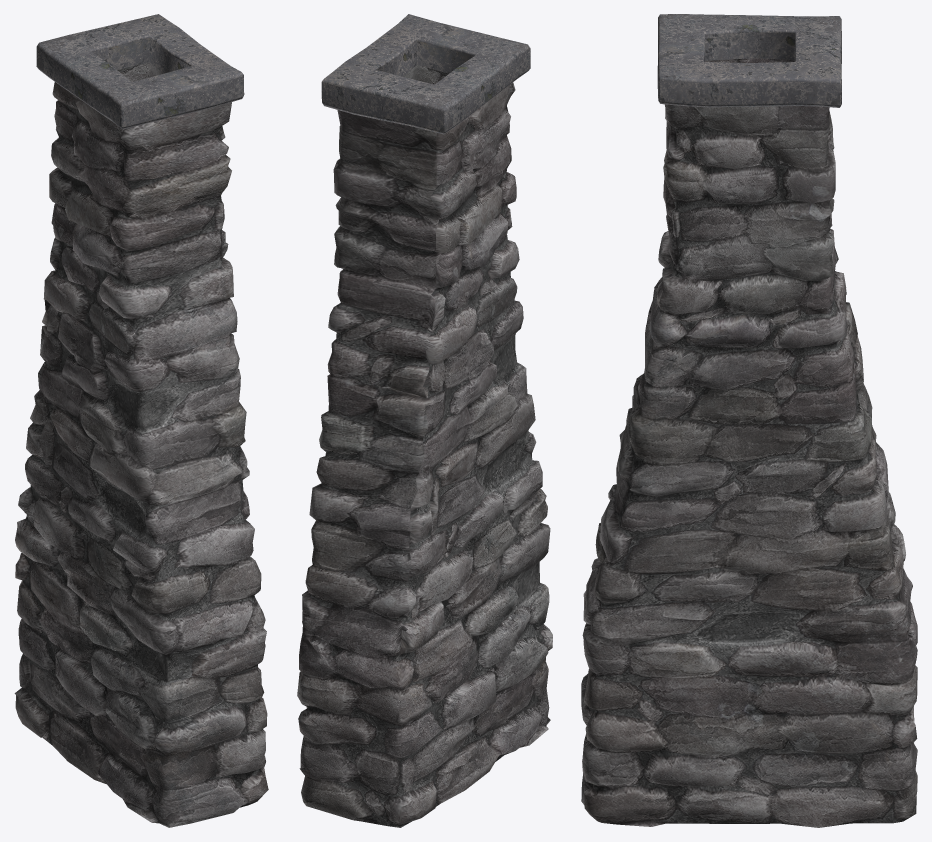
Rendered from SM_ChimneyB.FBX.
The picture shows the model from 3 angles, left to right: view 1: azimuth 30°, elevation 25°; view 2: azimuth 150°, elevation 25°; view 3: azimuth 270°, elevation 25°; orthographic projection. The views are drawn at different scales.
Visible parts, largest first — view 1: SM_ChimneyB_LOD0; view 2: SM_ChimneyB_LOD0; view 3: SM_ChimneyB_LOD0.
Boxes of the visible parts, x1,y1,x2,y2 form: SM_ChimneyB_LOD0: (14,14,268,827); SM_ChimneyB_LOD0: (297,14,552,827); SM_ChimneyB_LOD0: (581,14,917,827).
Size of what is drawn, in the model's own units: 67.12 by 362 by 146.
